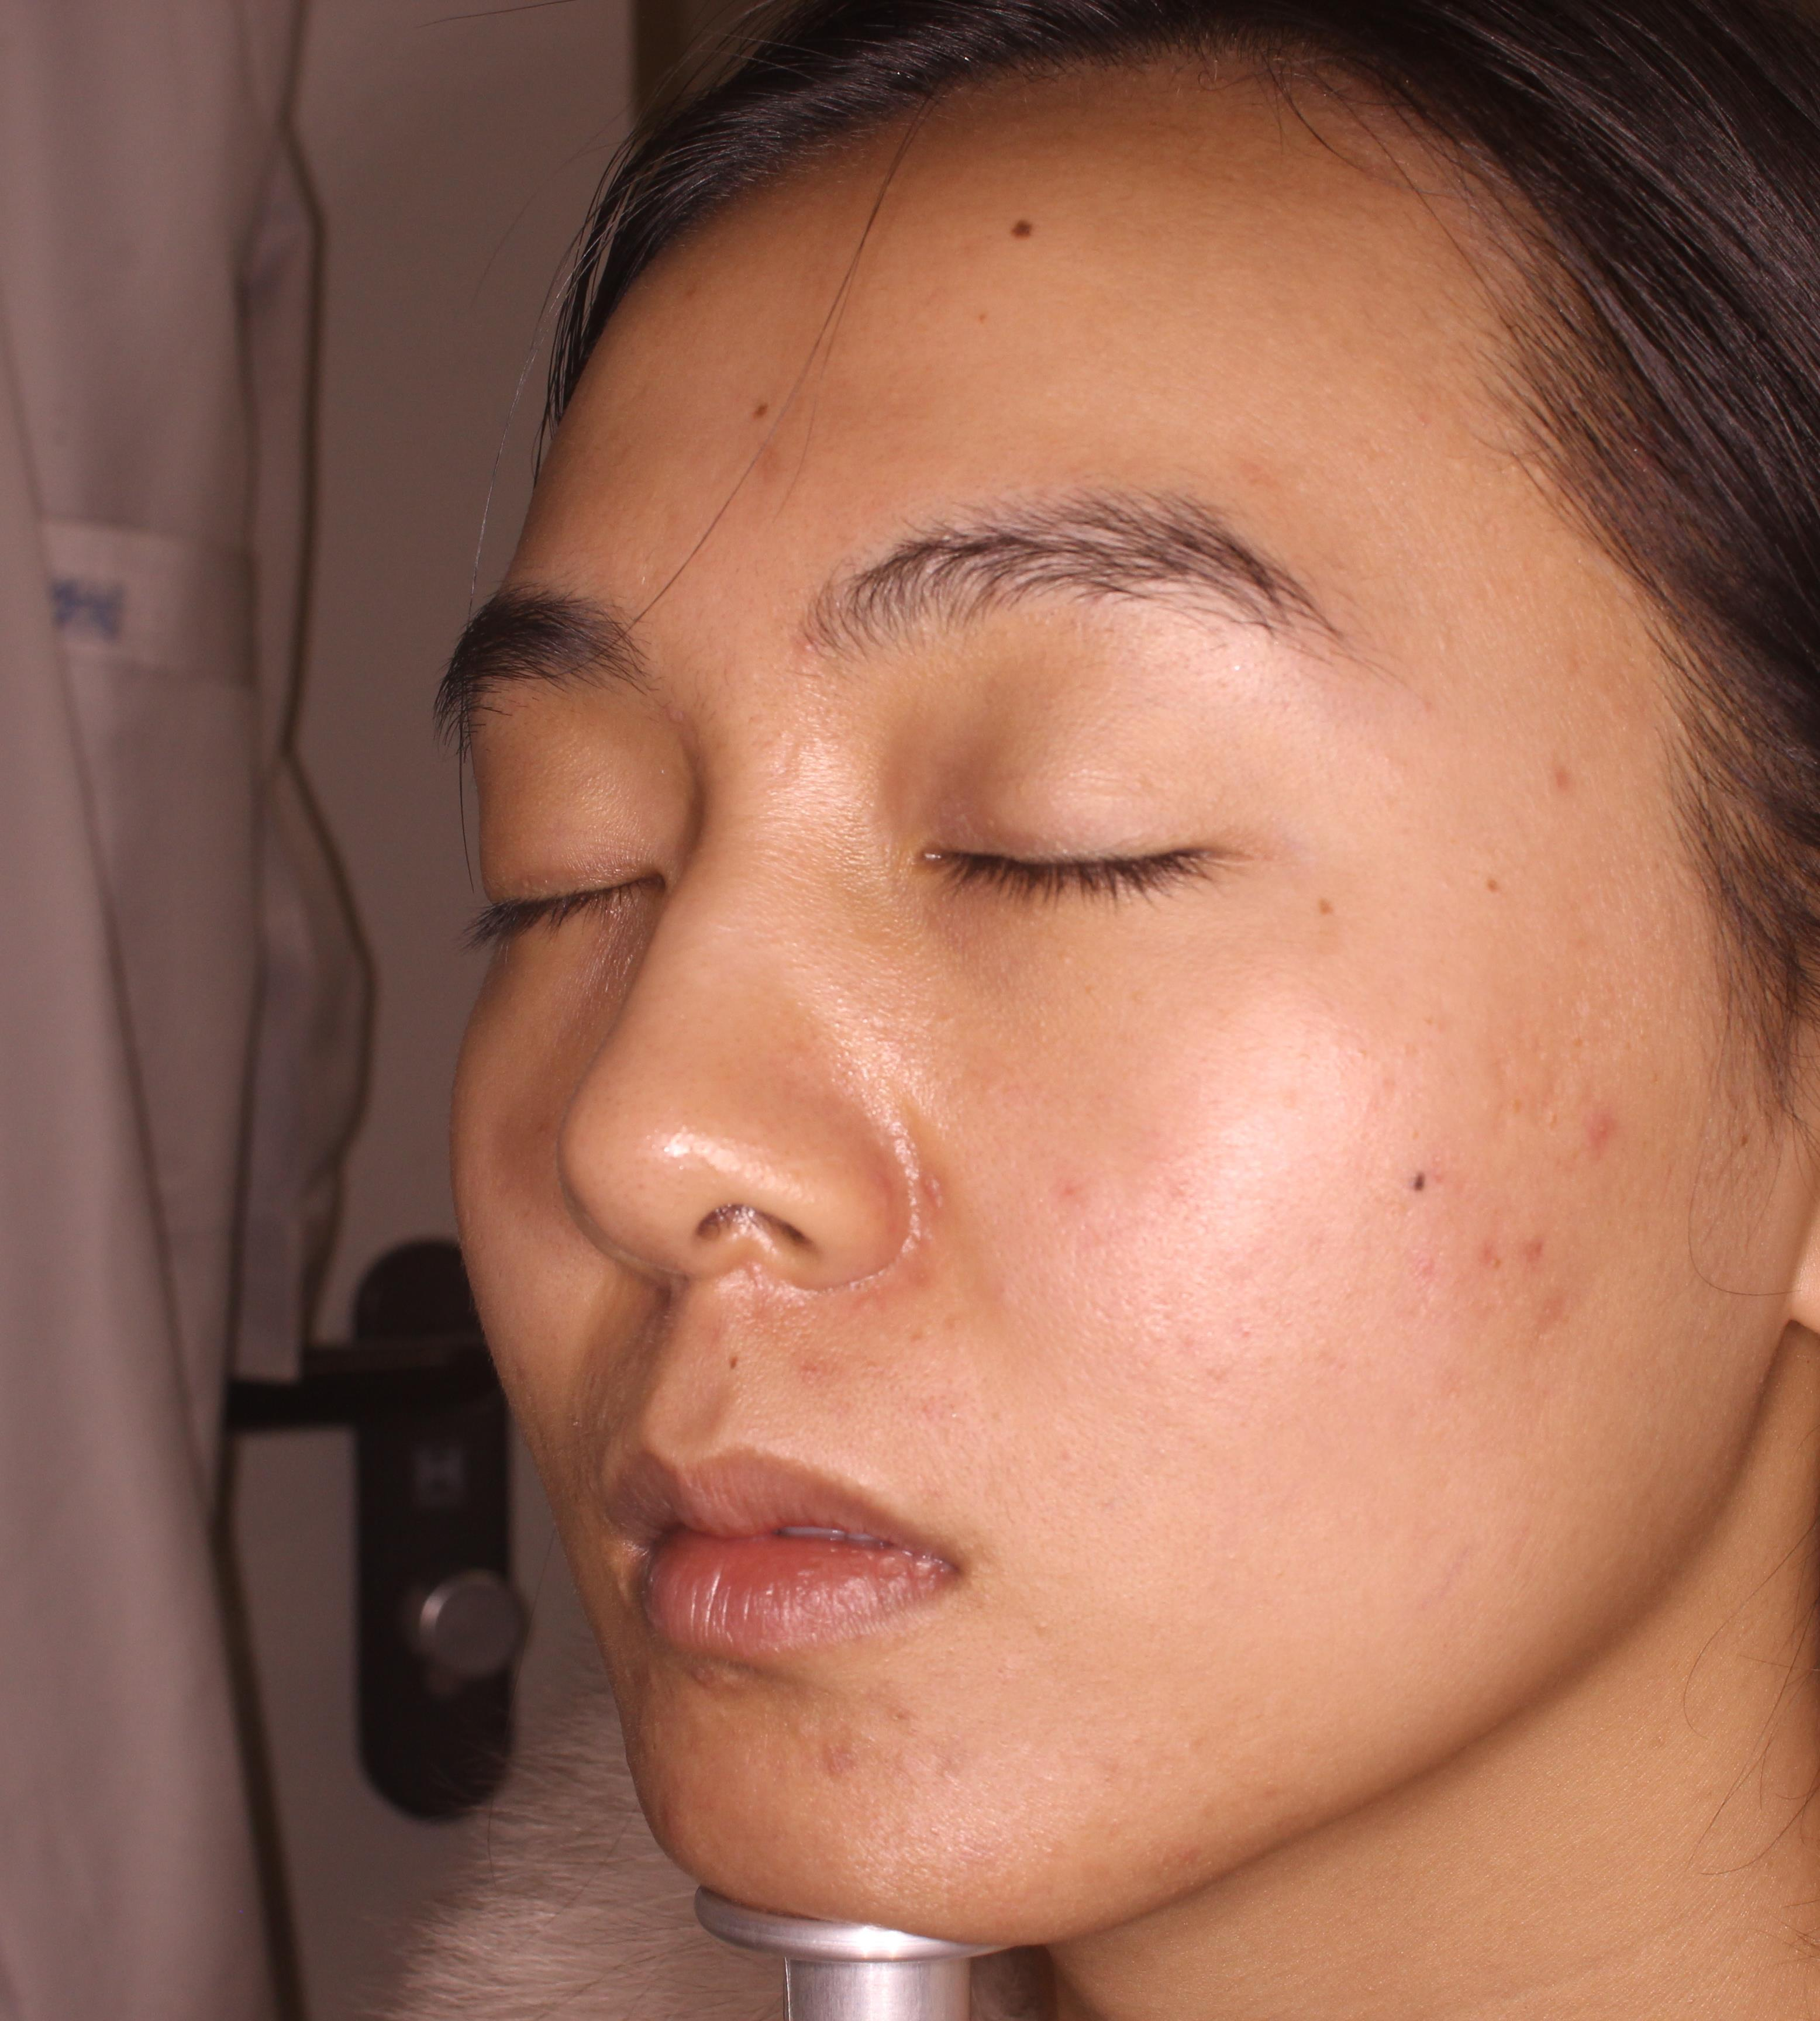fore: (1539, 1078, 1627, 1173)
